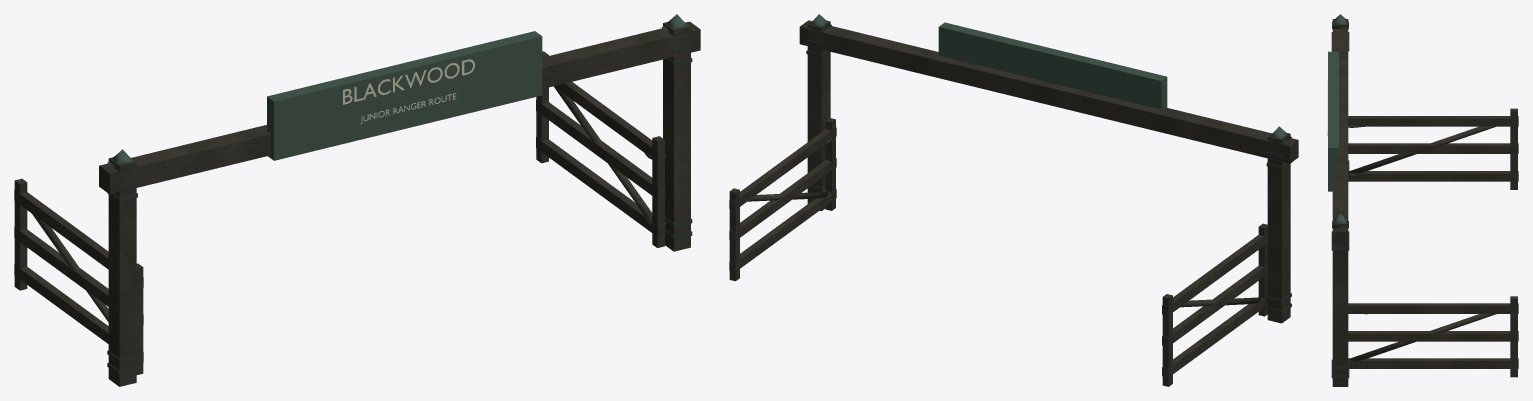
File: timber-trail-gate.glb
The picture shows the model from 3 angles, left to right: view 1: azimuth 30°, elevation 25°; view 2: azimuth 150°, elevation 25°; view 3: azimuth 270°, elevation 25°; orthographic projection. The views are drawn at different scales.
Parts seen in each view (by area): view 1: Carved trail gateway sign, Trail gateway lintel, Forestry gate post, Forestry gate post.001, Forestry gate rail.003, Forestry gate rail.004, Forestry gate rail.005, Forestry gate rail, Forestry gate rail.002, Forestry gate rail.001, Gate end upright.002, Gate end upright.001 (+5 smaller); view 2: Trail gateway lintel, Carved trail gateway sign, Forestry gate post, Forestry gate post.001, Forestry gate rail.005, Forestry gate rail.004, Forestry gate rail.002, Forestry gate rail.003, Forestry gate rail.001, Forestry gate rail, Gate end upright.003, Gate end upright.001 (+2 smaller); view 3: Trail gateway lintel, Forestry gate post.001, Forestry gate rail.005, Forestry gate rail.002, Forestry gate rail.004, Forestry gate rail.001, Forestry gate rail.003, Forestry gate rail, Carved trail gateway sign, Gate diagonal brace.001, Gate diagonal brace, Gate end upright.001 (+1 smaller).
Part boxes in pixels (<box>): Carved trail gateway sign: <box>267,31,542,160</box>; Trail gateway lintel: <box>99,21,700,194</box>; Forestry gate post: <box>108,157,136,386</box>; Forestry gate post.001: <box>663,22,690,251</box>; Forestry gate rail.003: <box>536,137,665,236</box>; Forestry gate rail.004: <box>536,100,665,199</box>; Forestry gate rail.005: <box>554,82,665,162</box>; Forestry gate rail: <box>14,264,143,364</box>; Forestry gate rail.002: <box>14,190,143,289</box>; Forestry gate rail.001: <box>14,227,143,326</box>; Gate end upright.002: <box>652,136,664,247</box>; Gate end upright.001: <box>14,178,27,290</box>; Trail gateway lintel: <box>799,20,1298,163</box>; Carved trail gateway sign: <box>938,22,1167,109</box>; Forestry gate post: <box>1267,133,1290,323</box>; Forestry gate post.001: <box>807,20,830,211</box>; Forestry gate rail.005: <box>729,127,836,210</box>; Forestry gate rail.004: <box>729,158,836,241</box>; Forestry gate rail.002: <box>1162,235,1264,315</box>; Forestry gate rail.003: <box>729,189,836,272</box>; Forestry gate rail.001: <box>1162,266,1264,346</box>; Forestry gate rail: <box>1162,297,1264,377</box>; Gate end upright.003: <box>729,188,739,281</box>; Gate end upright.001: <box>1162,294,1172,386</box>; Trail gateway lintel: <box>1332,29,1348,246</box>; Forestry gate post.001: <box>1332,218,1348,386</box>; Forestry gate rail.005: <box>1348,303,1518,313</box>; Forestry gate rail.002: <box>1348,116,1518,126</box>; Forestry gate rail.004: <box>1348,331,1518,341</box>; Forestry gate rail.001: <box>1348,143,1518,153</box>; Forestry gate rail.003: <box>1348,358,1518,368</box>; Forestry gate rail: <box>1348,171,1518,181</box>; Carved trail gateway sign: <box>1328,51,1338,191</box>; Gate diagonal brace.001: <box>1348,304,1507,360</box>; Gate diagonal brace: <box>1348,117,1507,173</box>; Gate end upright.001: <box>1510,108,1517,189</box>.
Size of the model in its own units: 7.95 by 3.22 by 3.03.
4 materials, 1 textured.
